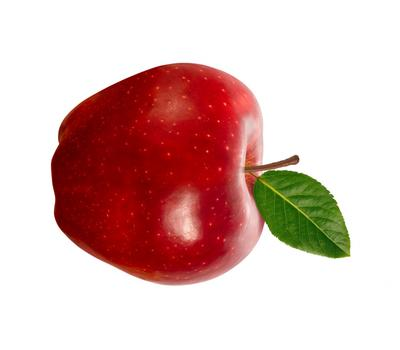apple: (0, 0, 400, 350)
